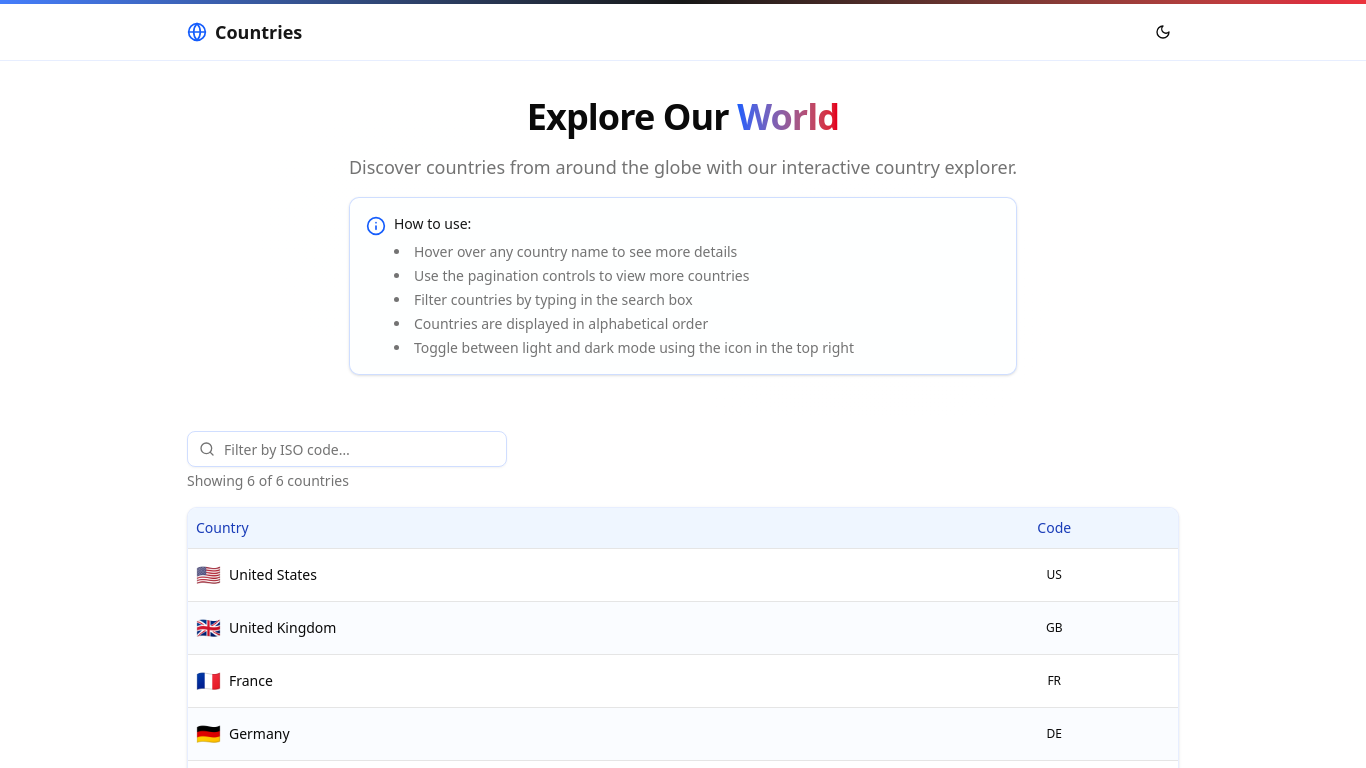
Test: Country Filtering › clear filter button resets the filter
This screenshot has width=1366, height=768.
Expected: the text "United States" is shown, [229,564,317,584]
Note: Apply a filter
In the field with placeholder "Filter by ISO code…": (347,449) [187,431,507,467], type "US"
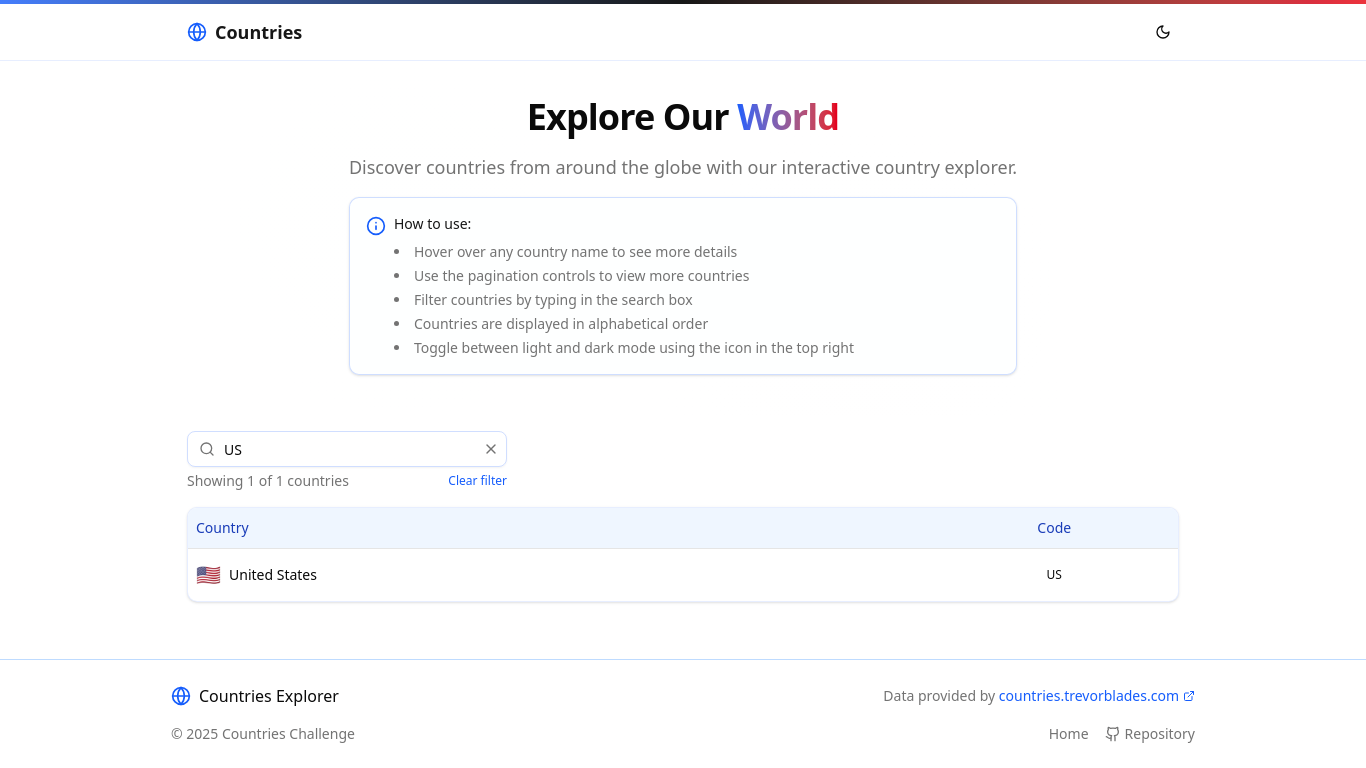
Expected: the text "United States" is shown, [229,564,317,584]
Now the text "United Kingdom" is gone
Note: Clear using the button in the input field
Click the button named "Clear filter": (491,449) [483,441,499,457]
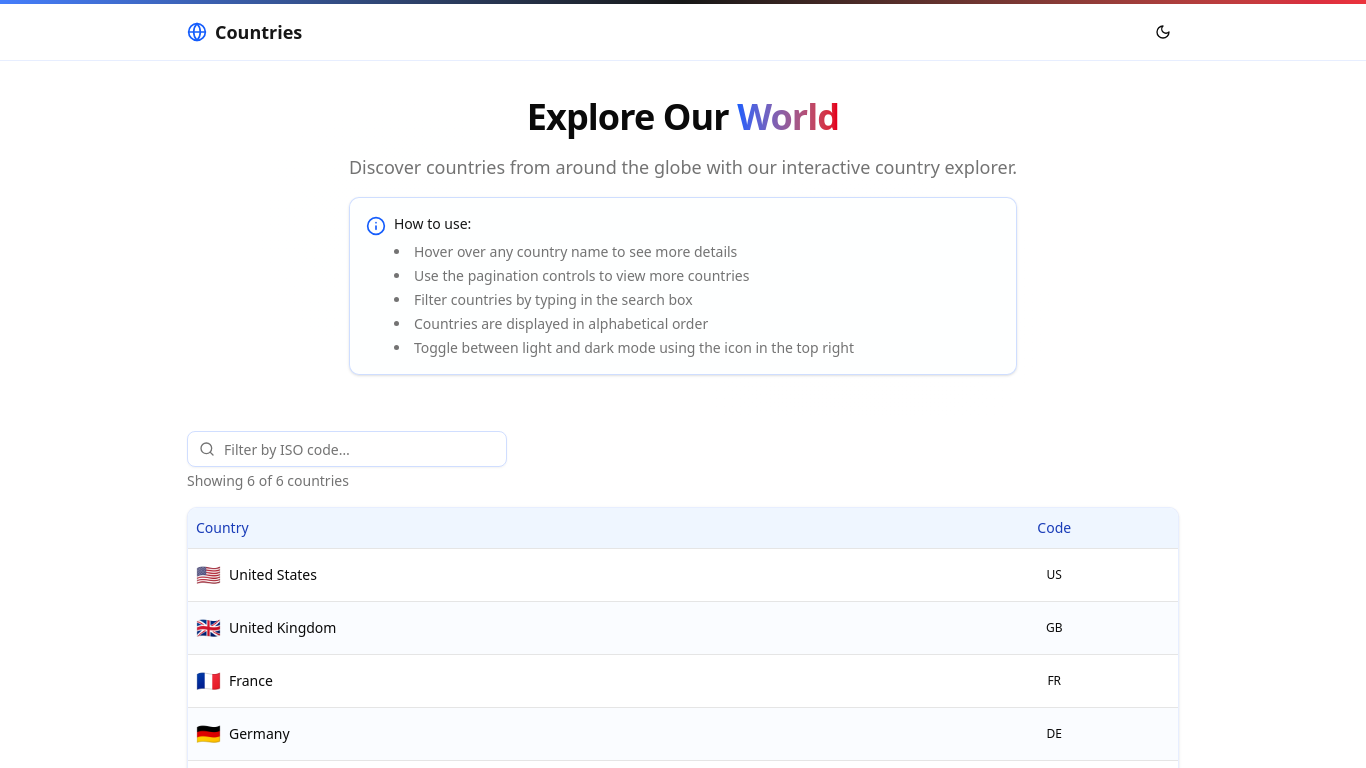
Now the field with placeholder "Filter by ISO code…" is empty, box [187,431,507,467]
Now the text "United Kingdom" is shown, box [229,618,336,638]
Now the text "France" is shown, box [229,670,273,690]
